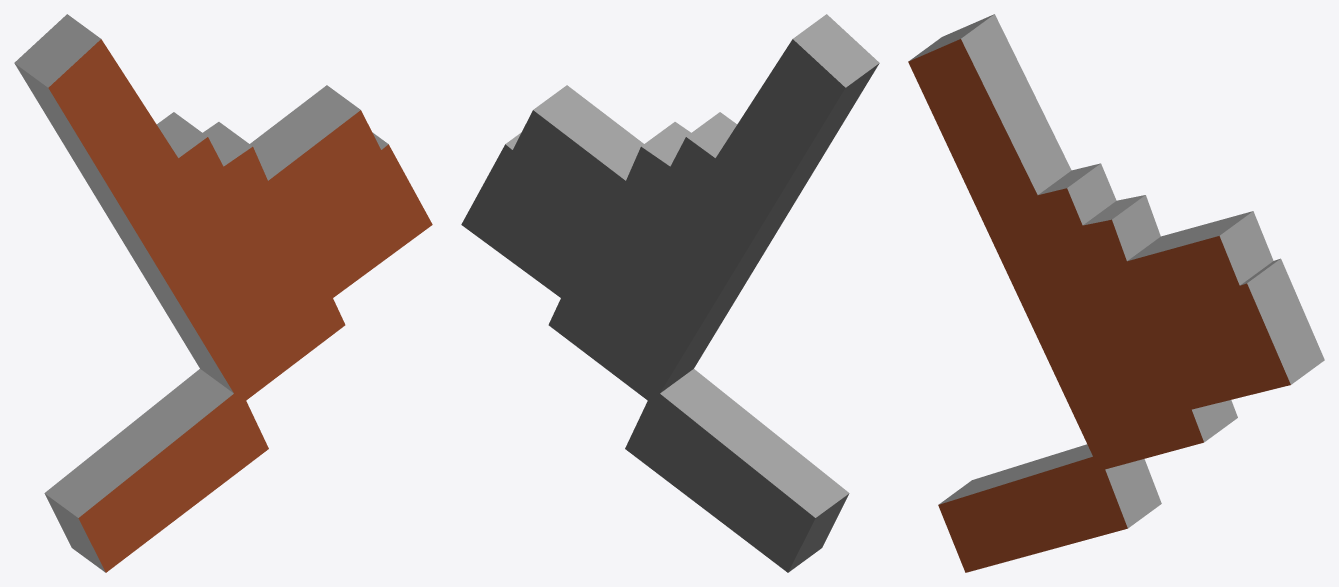
Rendered from construction_6188_assumed_A_Casa_h6m.obj.
3 views of the same model, side by side, from view 1: azimuth 30°, elevation 25°; view 2: azimuth 150°, elevation 25°; view 3: azimuth 330°, elevation 25° (orthographic).
Visible parts, largest first — view 1: construction_6188_assumed_A_Casa; view 2: construction_6188_assumed_A_Casa; view 3: construction_6188_assumed_A_Casa.
Part boxes in pixels (x1=…): construction_6188_assumed_A_Casa: x1=14, y1=14, x2=432, y2=572; construction_6188_assumed_A_Casa: x1=461, y1=14, x2=879, y2=572; construction_6188_assumed_A_Casa: x1=908, y1=14, x2=1324, y2=572.
Bounding box in the file's own units: 39.1 × 52.01 × 6.
